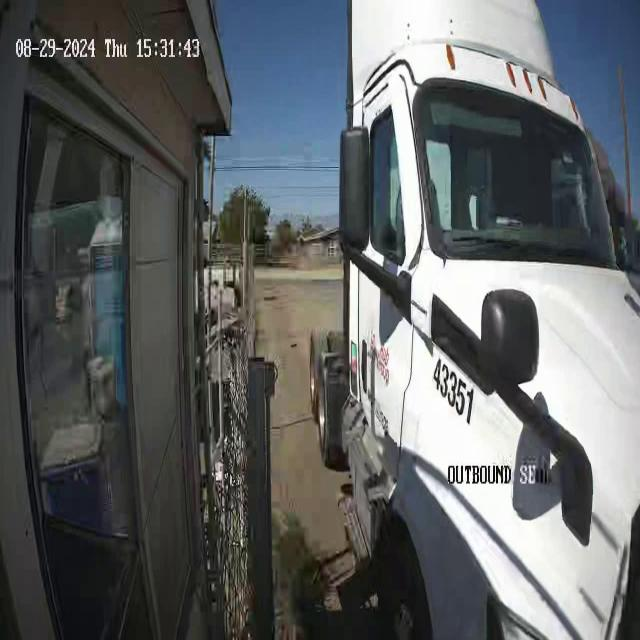TRUCK_IN: (327, 2, 639, 638)
